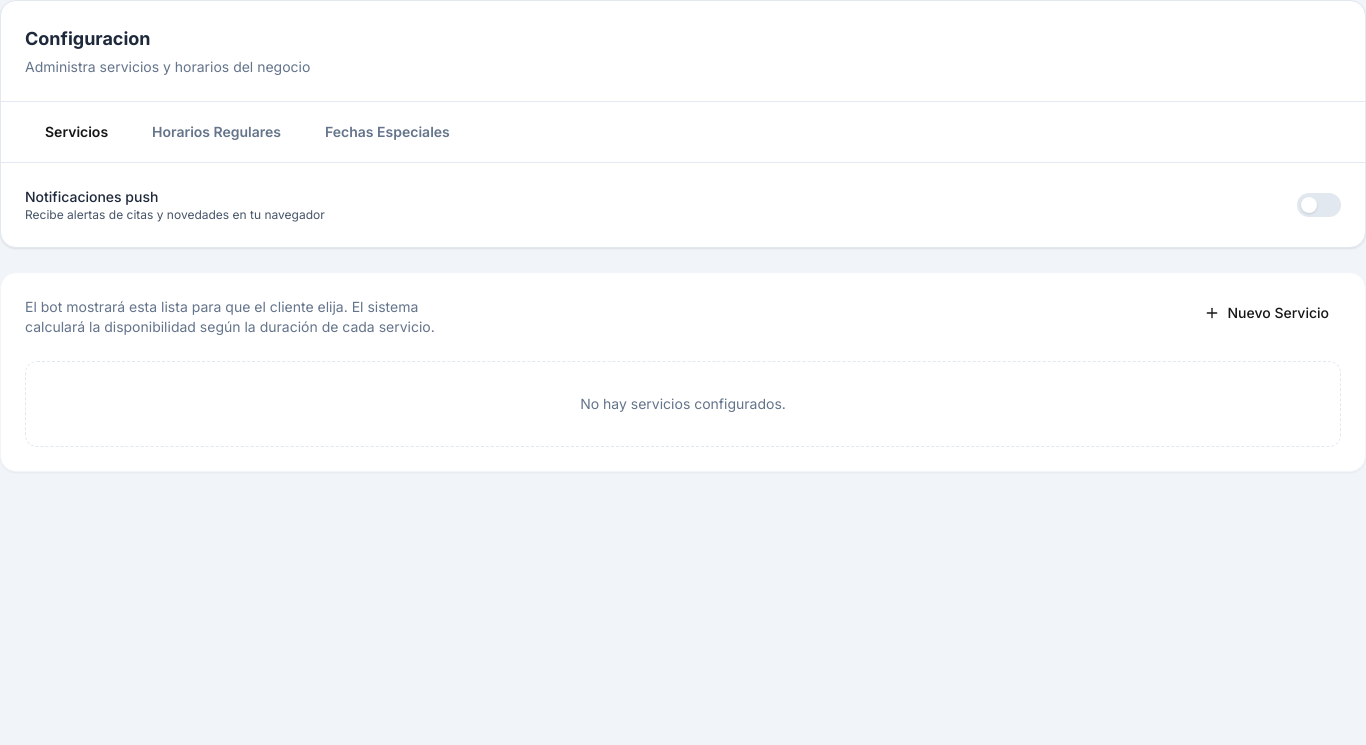
Scenario: ConfiguracionView › switches to HorariosTab when clicking Horarios Regulares
The image size is (1366, 745).
Click the button "Horarios Regulares".
click(217, 132)  # box [132, 114, 301, 150]
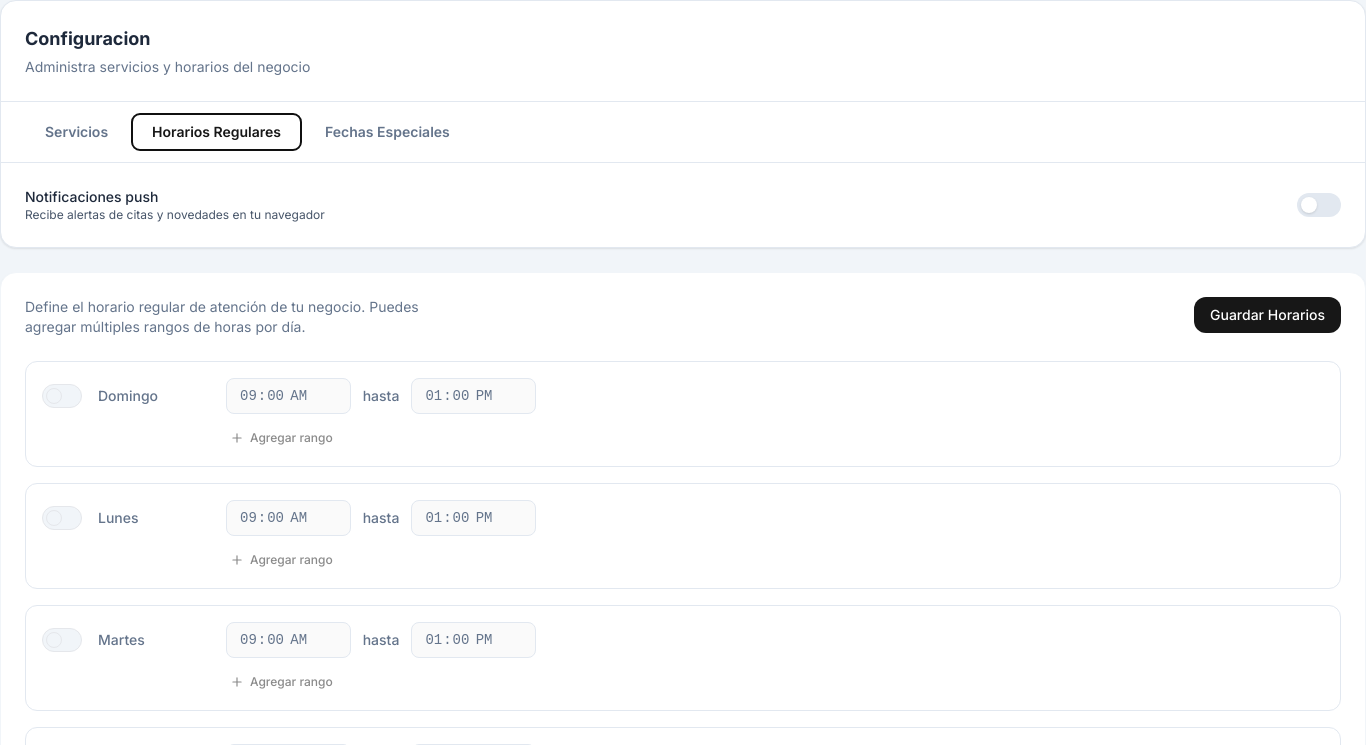
Expected: the button "Guardar Horarios" is shown, [1194, 297, 1341, 333]
